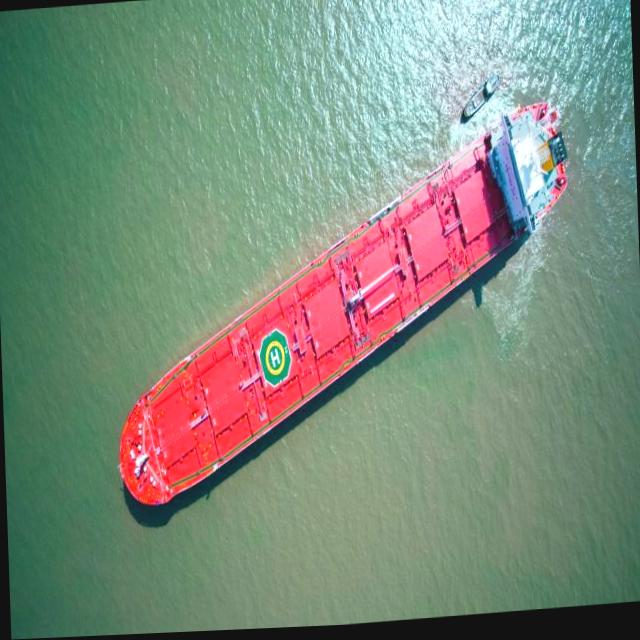ship2: (117, 108, 568, 528)
